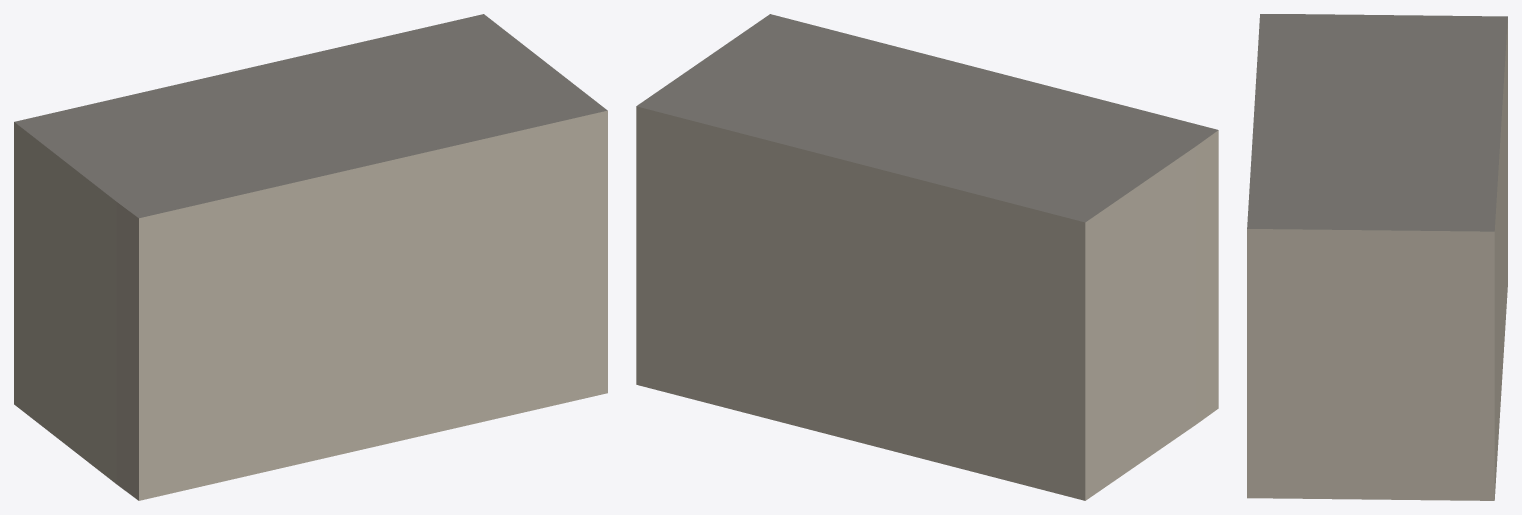
3 views of the same model, side by side, from view 1: azimuth 30°, elevation 25°; view 2: azimuth 150°, elevation 25°; view 3: azimuth 270°, elevation 25° (orthographic). The views are drawn at different scales.
Parts seen in each view (by area): view 1: HP-w1435272425; view 2: HP-w1435272425; view 3: HP-w1435272425.
Boxes of the visible parts, x1,y1,x2,y2 form: HP-w1435272425: (14,14,607,500); HP-w1435272425: (636,14,1218,500); HP-w1435272425: (1247,14,1507,500).
Bounding box in the file's own units: 31.2 × 18 × 15.8.
